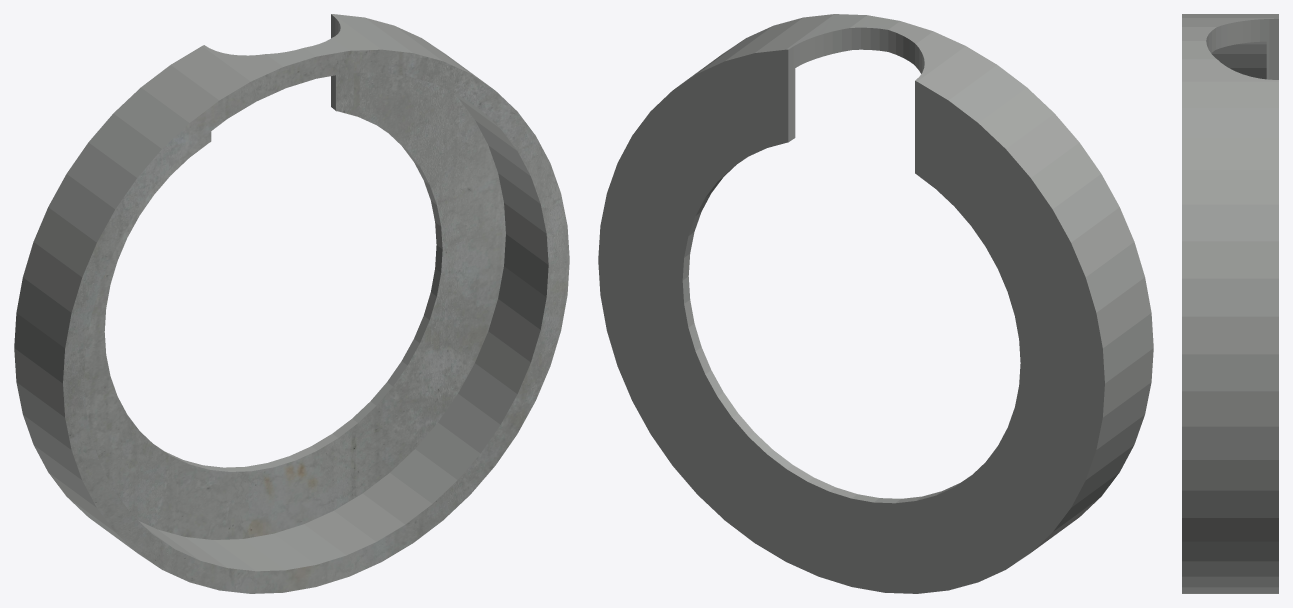
Rendered from pool_029.obj.
3 renders of one model, left to right at view 1: azimuth 30°, elevation 25°; view 2: azimuth 150°, elevation 25°; view 3: azimuth 270°, elevation 25°, orthographic.
Size of the model in its own units: 24 by 24 by 4.
